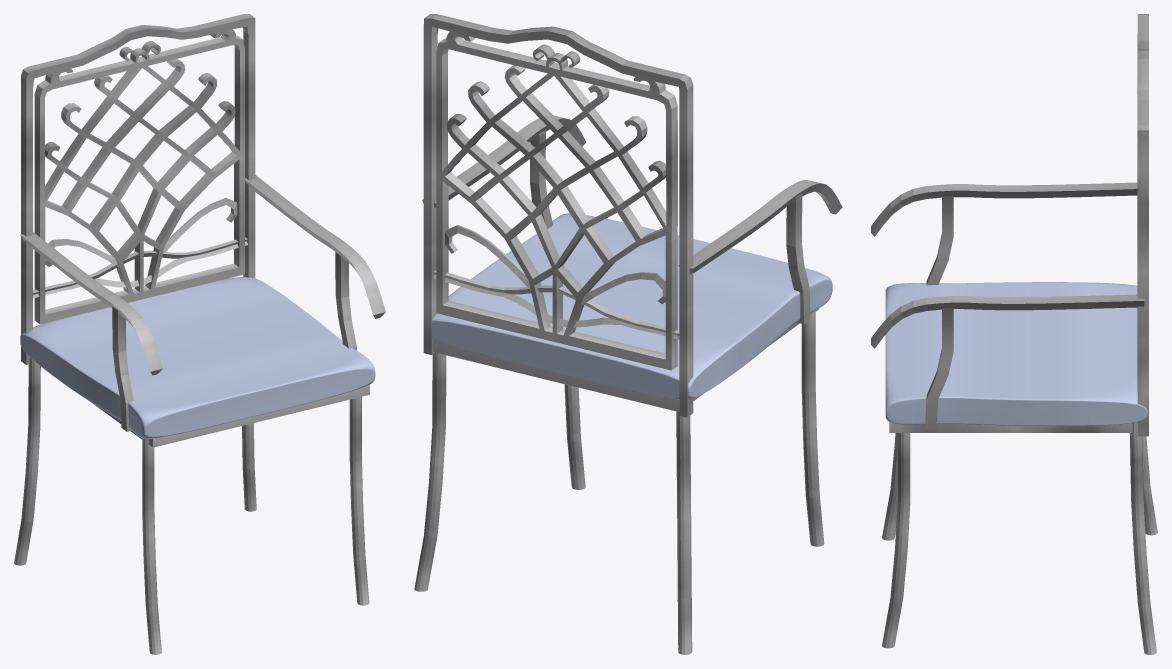
File: latticeChair.glb
3 views of the same model, side by side, from view 1: azimuth 30°, elevation 25°; view 2: azimuth 150°, elevation 25°; view 3: azimuth 270°, elevation 25° (orthographic). The views are drawn at different scales.
Visible parts, largest first — view 1: latticeChair; view 2: latticeChair; view 3: latticeChair.
Boxes of the visible parts, box(x1,y1,x2,y2) form: latticeChair: box(14, 14, 385, 654); latticeChair: box(414, 14, 842, 654); latticeChair: box(871, 14, 1157, 654).
Size of the model in its own units: 0.43 by 0.8736 by 0.4227.
Materials: 2 (2 with a texture image).
